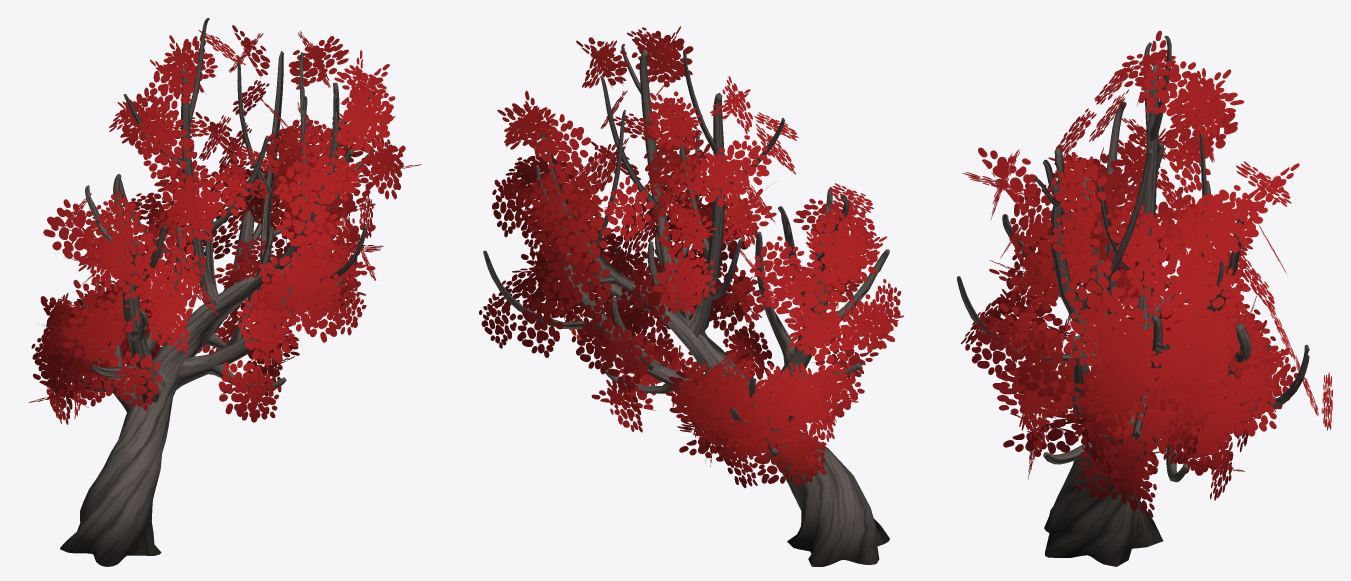
File: TwistedTree_1.glb
The picture shows the model from 3 angles, left to right: view 1: azimuth 30°, elevation 25°; view 2: azimuth 150°, elevation 25°; view 3: azimuth 270°, elevation 25°; orthographic projection. The views are drawn at different scales.
Parts seen in each view (by area): view 1: TwistedTree_1; view 2: TwistedTree_1; view 3: TwistedTree_1.
Part boxes in pixels (x1,y1,x2,y2): TwistedTree_1: (28,18,421,566); TwistedTree_1: (479,26,903,566); TwistedTree_1: (956,30,1332,566).
Size of the model in its own units: 13.13 by 15.48 by 9.43.
Materials: 2 (2 with a texture image).
